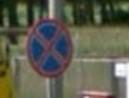No Parking: (27, 19, 75, 79)
